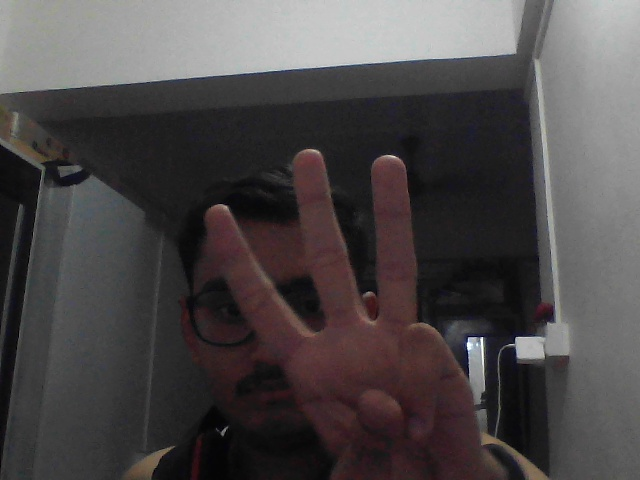Hello: (169, 125, 501, 479)
